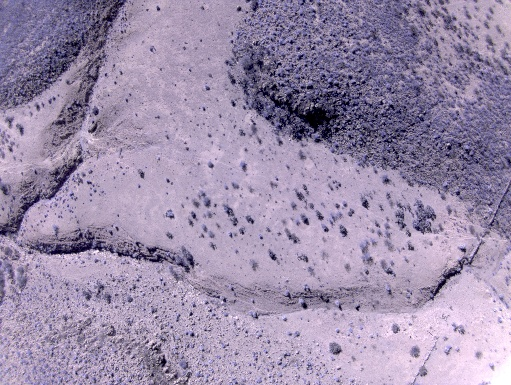agave: (237, 160, 248, 169), (206, 161, 215, 169), (276, 68, 284, 77), (379, 131, 387, 139), (384, 82, 392, 90), (294, 45, 302, 53), (93, 258, 102, 265), (342, 20, 349, 29), (293, 73, 301, 80), (452, 114, 459, 122), (150, 307, 157, 314), (347, 72, 354, 79), (350, 78, 357, 85), (274, 13, 281, 20), (307, 82, 313, 90), (317, 37, 323, 45), (188, 331, 195, 337), (198, 346, 205, 352), (111, 348, 118, 354), (330, 147, 336, 154), (349, 55, 355, 62), (334, 52, 340, 59), (257, 330, 262, 338), (378, 97, 383, 105), (328, 77, 333, 85), (178, 353, 184, 359), (74, 287, 80, 293), (297, 53, 303, 59), (271, 37, 277, 43), (189, 302, 196, 307), (334, 142, 339, 149), (222, 312, 228, 317), (211, 311, 217, 316), (203, 300, 209, 305), (140, 365, 146, 370), (347, 143, 352, 149), (387, 70, 392, 76), (288, 39, 293, 45), (43, 66, 49, 71), (46, 43, 51, 49), (70, 21, 77, 25), (176, 313, 181, 318), (233, 362, 238, 367), (229, 285, 233, 291), (250, 298, 254, 304), (313, 62, 319, 66), (221, 344, 225, 349), (266, 339, 270, 344), (263, 350, 268, 354), (302, 32, 306, 37), (72, 357, 77, 360), (281, 52, 284, 56)
